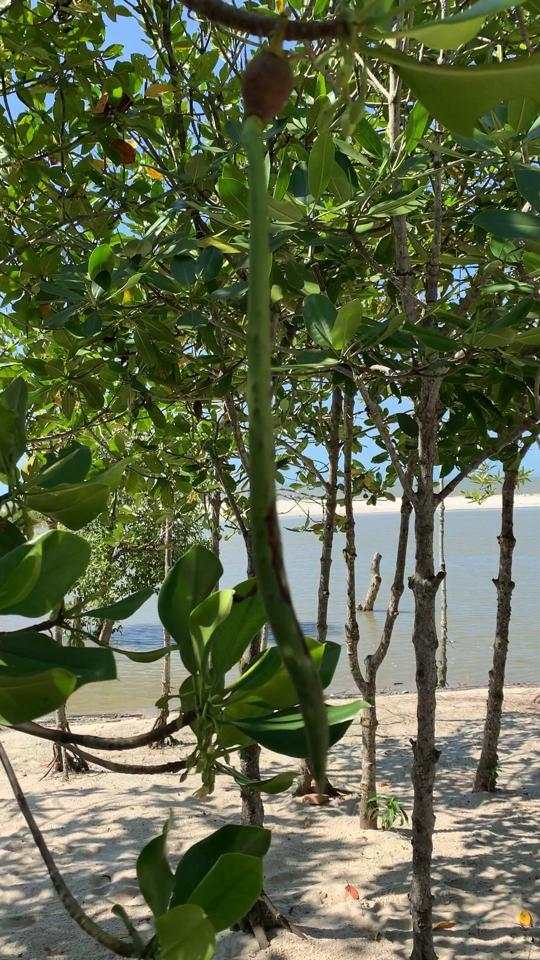setengah matang: (231, 29, 348, 801)
